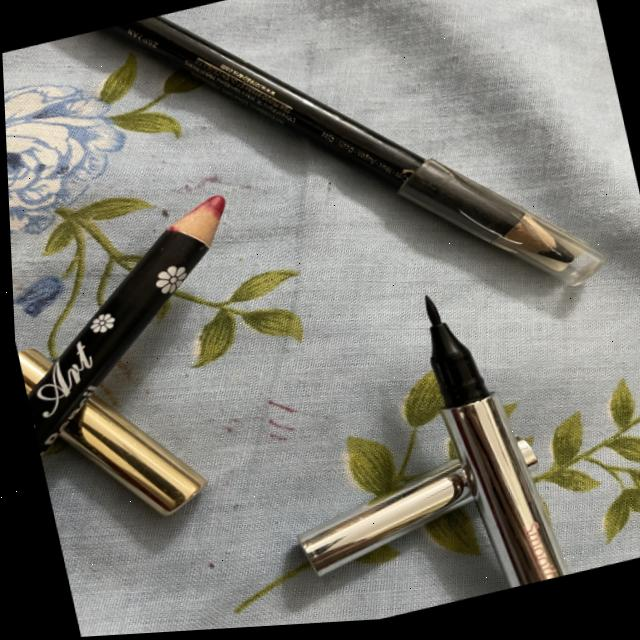eye liner: (378, 0, 640, 339), (374, 263, 595, 611)
lip liner: (7, 177, 301, 456)
